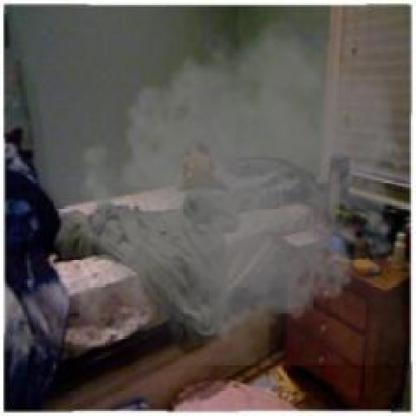Smoke: (57, 5, 411, 364)
